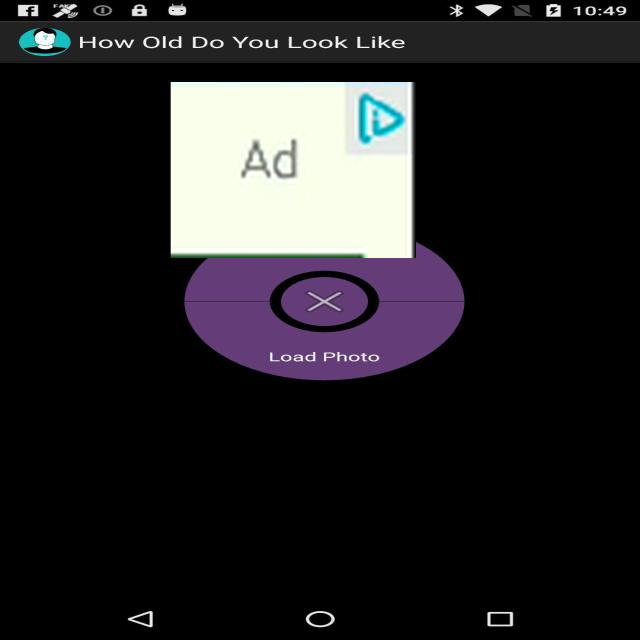sneaking: (171, 82, 416, 258)
